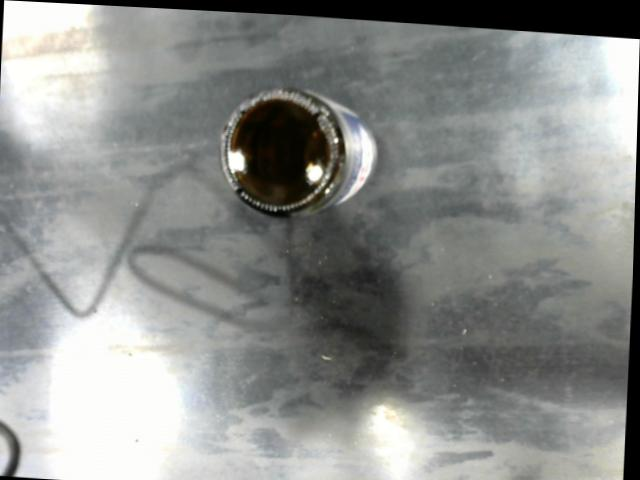glass: (220, 79, 388, 228)
